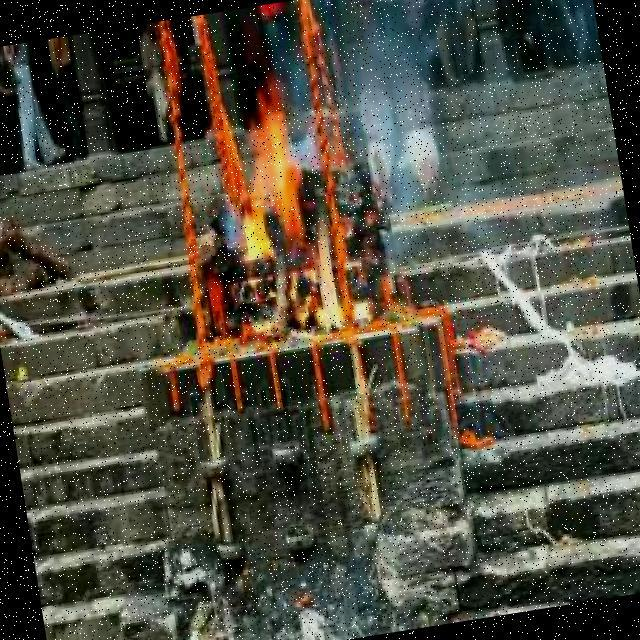Fire: (216, 78, 358, 343)
